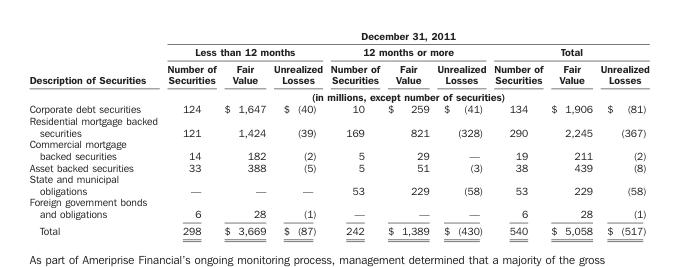table: (28, 28, 648, 236)
table column: (28, 28, 161, 236), (161, 28, 219, 236), (325, 28, 383, 236), (432, 28, 489, 236), (489, 28, 546, 236), (269, 28, 325, 236), (595, 28, 648, 236), (219, 28, 269, 236), (383, 28, 432, 236), (546, 28, 595, 236)
table column header: (28, 28, 648, 102)
table row: (28, 59, 648, 87), (28, 195, 648, 221), (28, 137, 648, 161), (28, 114, 648, 137), (28, 172, 648, 195), (28, 43, 648, 59), (28, 28, 648, 43), (28, 87, 648, 102), (28, 221, 648, 236), (28, 102, 648, 114), (28, 161, 648, 172)
table spanning cell: (28, 28, 161, 102), (161, 28, 648, 43), (161, 87, 648, 102), (161, 43, 325, 59), (325, 43, 489, 59), (489, 43, 648, 59)
